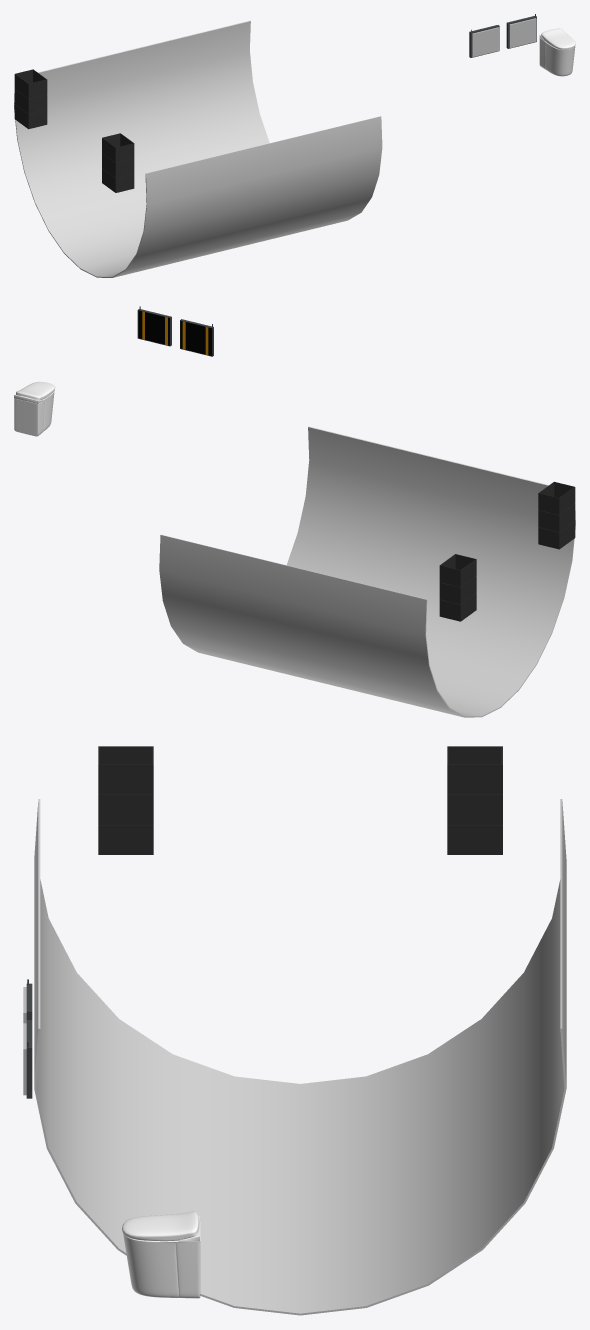
File: TheMuraka_Cinema4D_Interactables.fbx
3 views of the same model, one above another, from view 1: azimuth 30°, elevation 25°; view 2: azimuth 150°, elevation 25°; view 3: azimuth 270°, elevation 25° (orthographic). The views are drawn at different scales.
Visible parts, largest first — view 1: sunblind, toilet, mirror, mirror_2, top_2, top, middle_2, bottom_2, lid, middle, bottom; view 2: sunblind, toilet, mirror_2, mirror, top, top_2, middle, bottom_2, middle_2, bottom; view 3: sunblind, toilet, top, top_2, lid, bottom, middle, bottom_2, middle_2, mirror_2.
Boxes of the visible parts, left/top/right/bottom form: sunblind: left=14, top=20, right=382, bottom=277; toilet: left=539, top=34, right=575, bottom=76; mirror: left=469, top=25, right=499, bottom=57; mirror_2: left=506, top=16, right=536, bottom=48; top_2: left=14, top=69, right=47, bottom=98; top: left=102, top=133, right=134, bottom=162; middle_2: left=14, top=89, right=47, bottom=113; bottom_2: left=14, top=104, right=47, bottom=129; lid: left=541, top=28, right=575, bottom=49; middle: left=102, top=153, right=134, bottom=177; bottom: left=102, top=168, right=134, bottom=192; sunblind: left=159, top=426, right=575, bottom=717; toilet: left=14, top=390, right=54, bottom=436; mirror_2: left=137, top=309, right=171, bottom=346; mirror: left=180, top=319, right=213, bottom=356; top: left=538, top=481, right=575, bottom=514; top_2: left=439, top=554, right=476, bottom=587; middle: left=538, top=504, right=575, bottom=532; bottom_2: left=439, top=593, right=476, bottom=621; middle_2: left=439, top=576, right=476, bottom=604; bottom: left=538, top=521, right=575, bottom=549; sunblind: left=34, top=799, right=566, bottom=1315; toilet: left=123, top=1215, right=200, bottom=1298; top: left=98, top=746, right=153, bottom=794; top_2: left=447, top=746, right=502, bottom=794; lid: left=122, top=1211, right=199, bottom=1241; bottom: left=98, top=824, right=153, bottom=854; middle: left=98, top=794, right=153, bottom=824; bottom_2: left=447, top=824, right=502, bottom=854; middle_2: left=447, top=794, right=502, bottom=824; mirror_2: left=23, top=1020, right=32, bottom=1098.
Bounding box in the file's own units: 1056 × 452 × 527.
